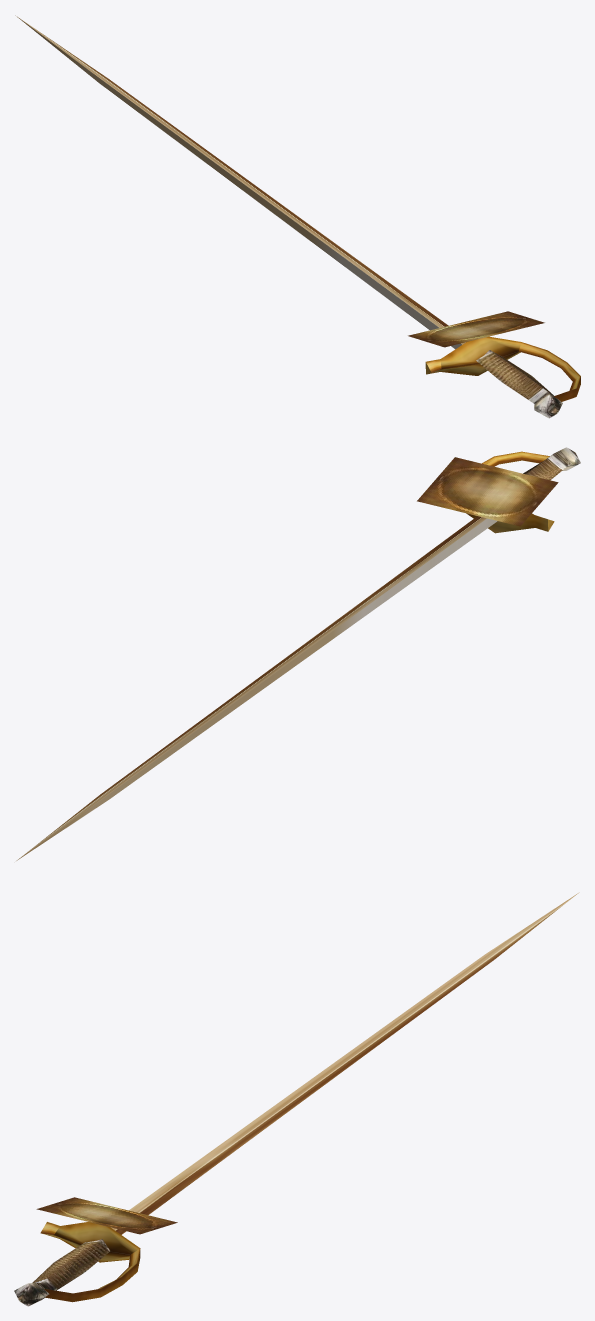
File: pir_m_hnd_swd_epee_c.fbx
3 renders of one model, top to bottom at view 1: azimuth 30°, elevation 25°; view 2: azimuth 150°, elevation 25°; view 3: azimuth 330°, elevation 25°, orthographic. The views are drawn at different scales.
Parts seen in each view (by area): view 1: blade, guard, hilt_inside, grip; view 2: blade, hilt_inside, guard, grip, hilt_outside; view 3: blade, guard, grip, hilt_inside.
Boxes of the visible parts, <box> form: blade: <box>15,15,465,349</box>; guard: <box>425,336,580,401</box>; hilt_inside: <box>408,311,544,347</box>; grip: <box>476,350,562,418</box>; blade: <box>16,516,497,860</box>; hilt_inside: <box>417,457,558,526</box>; guard: <box>466,451,554,533</box>; grip: <box>523,447,580,480</box>; hilt_outside: <box>456,458,555,524</box>; blade: <box>111,892,579,1234</box>; guard: <box>40,1222,140,1302</box>; grip: <box>14,1239,109,1306</box>; hilt_inside: <box>36,1197,177,1234</box>.
Bounding box in the file's own units: 56.32 × 25.3 × 493.
Materials: 2 (2 with a texture image).
